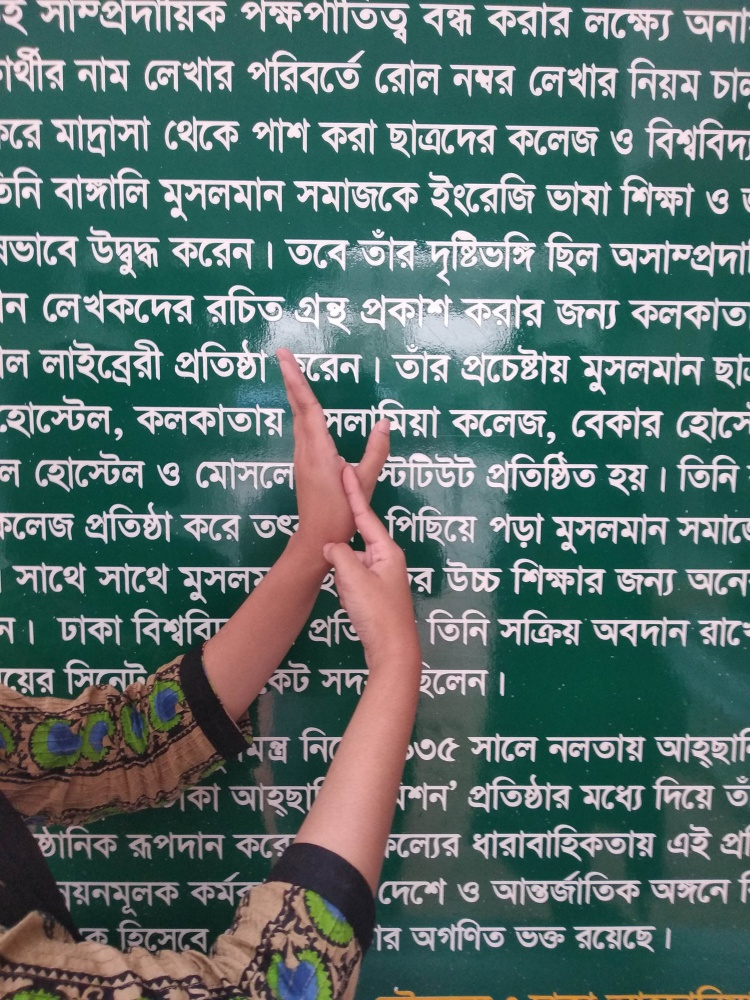dh: (242, 343, 438, 677)
